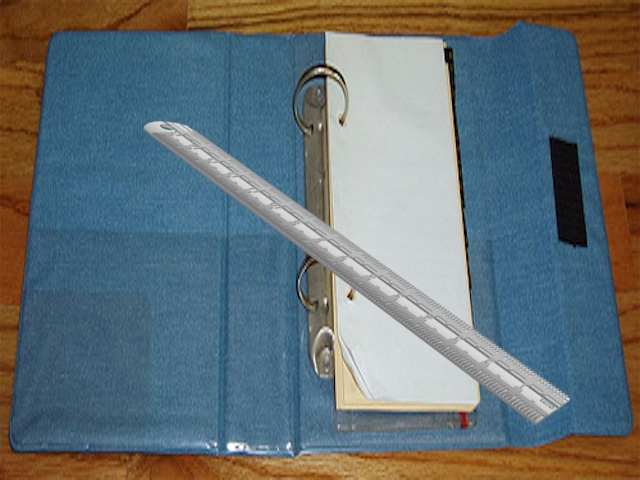ruler: (137, 121, 576, 432)
